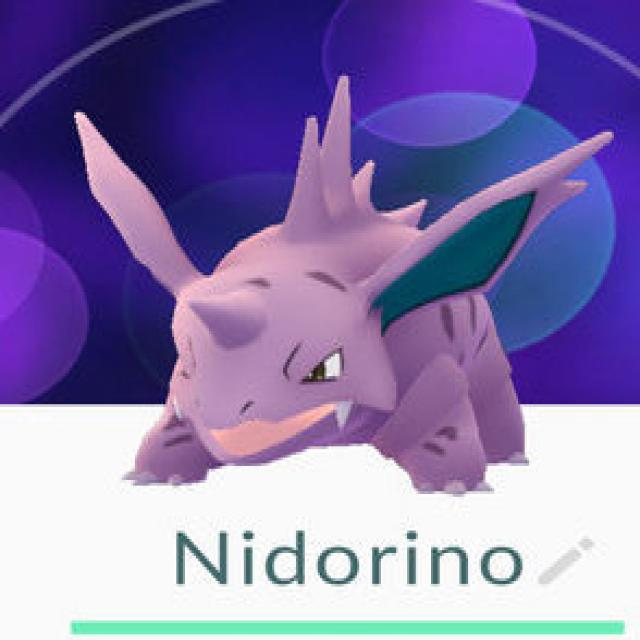Nidorino: (109, 136, 546, 498)
